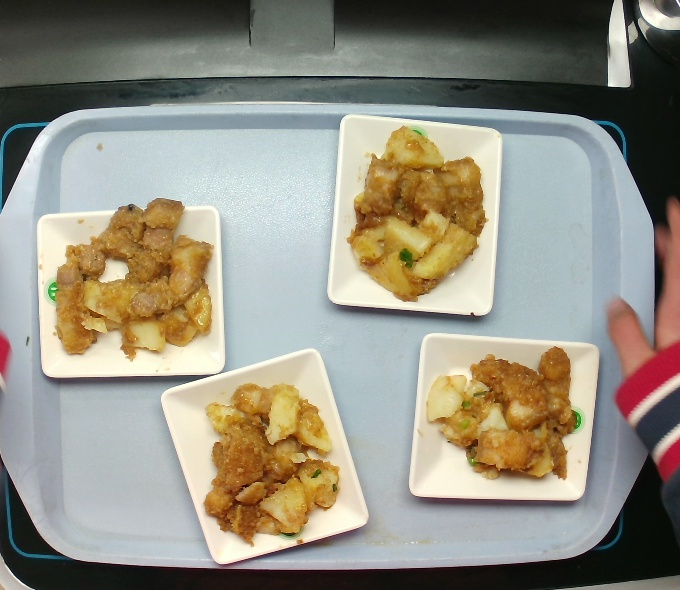wcq-FenZhenRou: (323, 128, 504, 302), (40, 193, 221, 364), (192, 365, 345, 554), (425, 345, 573, 486)
